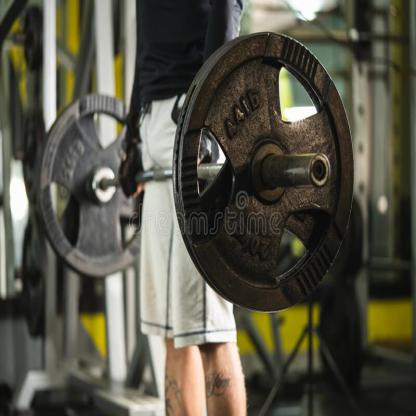Barbell: (170, 23, 358, 319)
